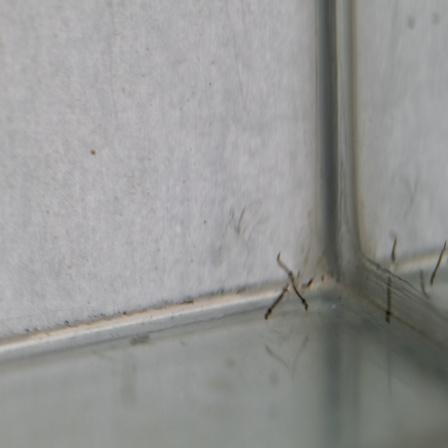Jentik-Nyamuk: (380, 274, 397, 326)
